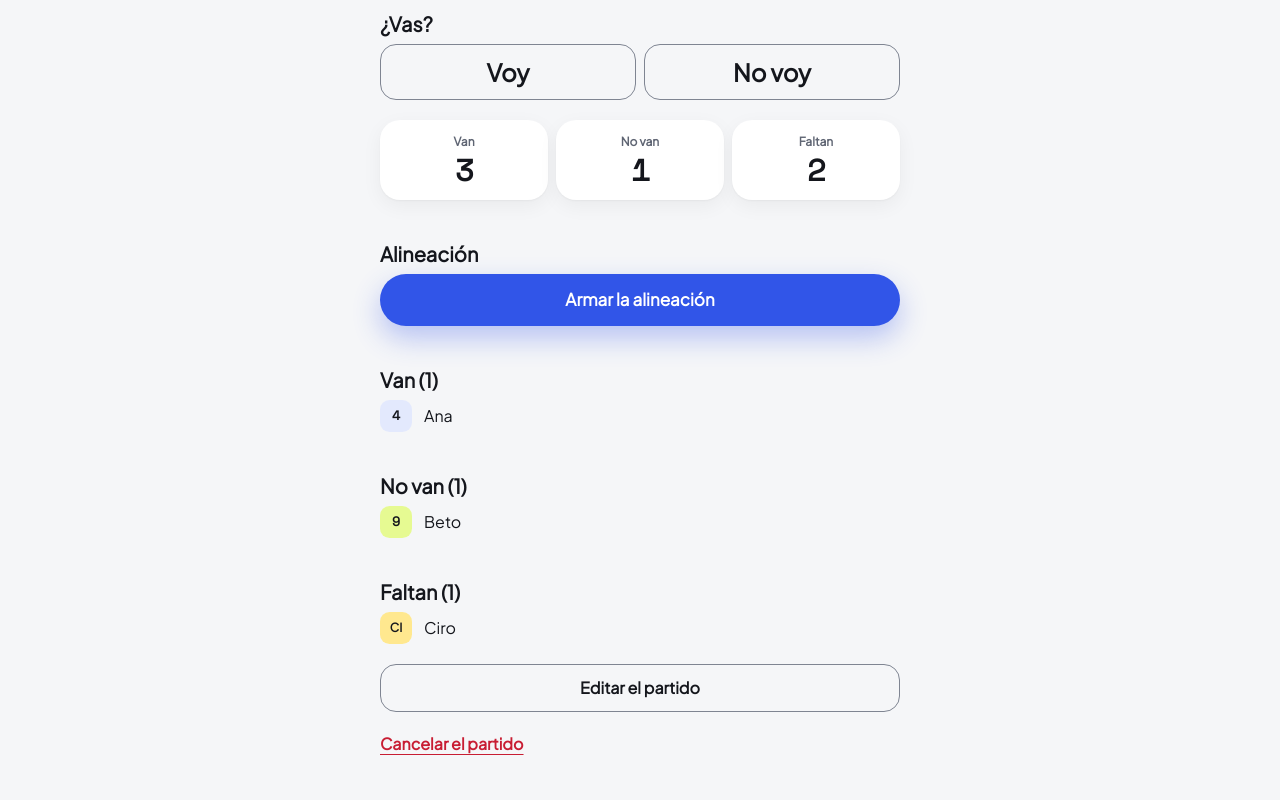
partidos en la app (Fase 7) › el cuerpo técnico ve quién va y puede cancelar
The width and height of the screenshot is (1280, 800).
(page scrolled)
Expected: the element "Van" shows "Ana", [424,405,453,426]
Expected: the element "Faltan" shows "Ciro", [424,617,456,638]
Click the button "Cancelar el partido".
click(452, 744)  # box [380,720,524,768]
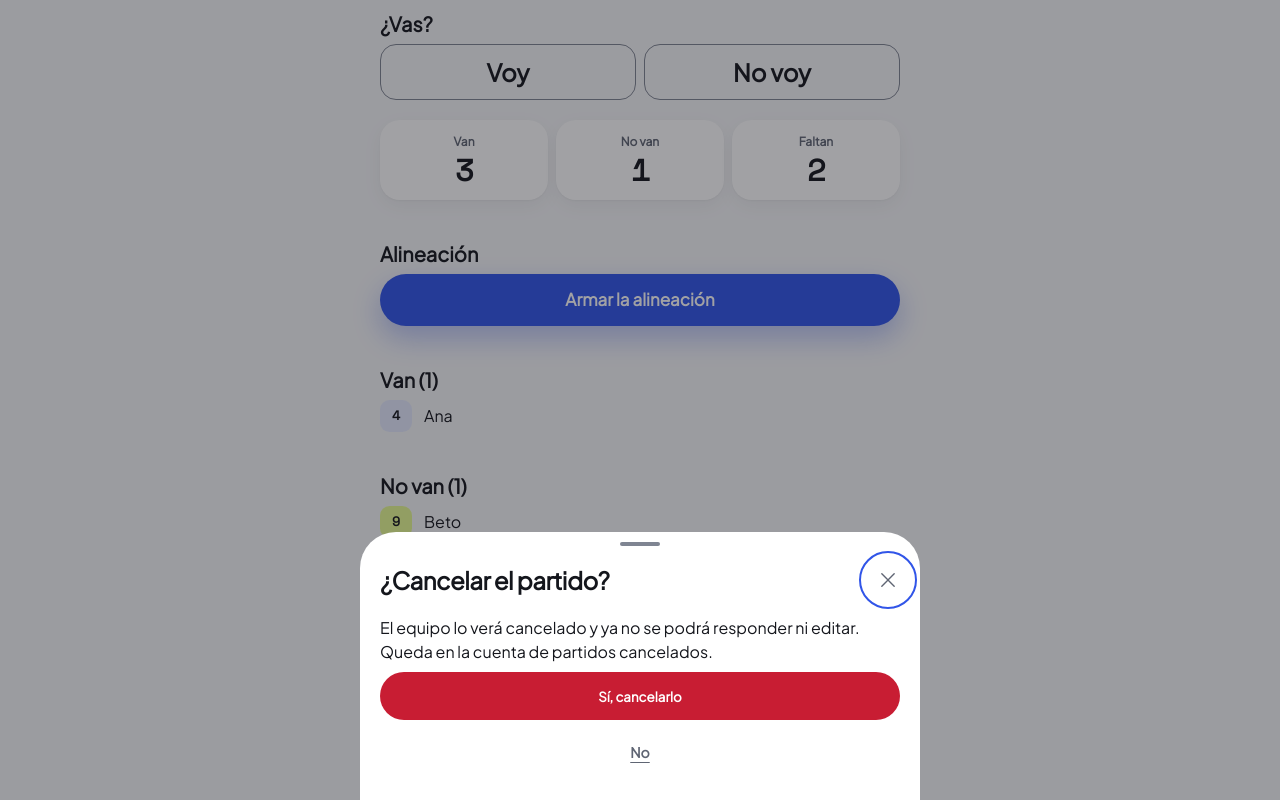
Click the button "Sí, cancelarlo".
click(640, 696)  # box [380,672,900,720]
(page scrolled)
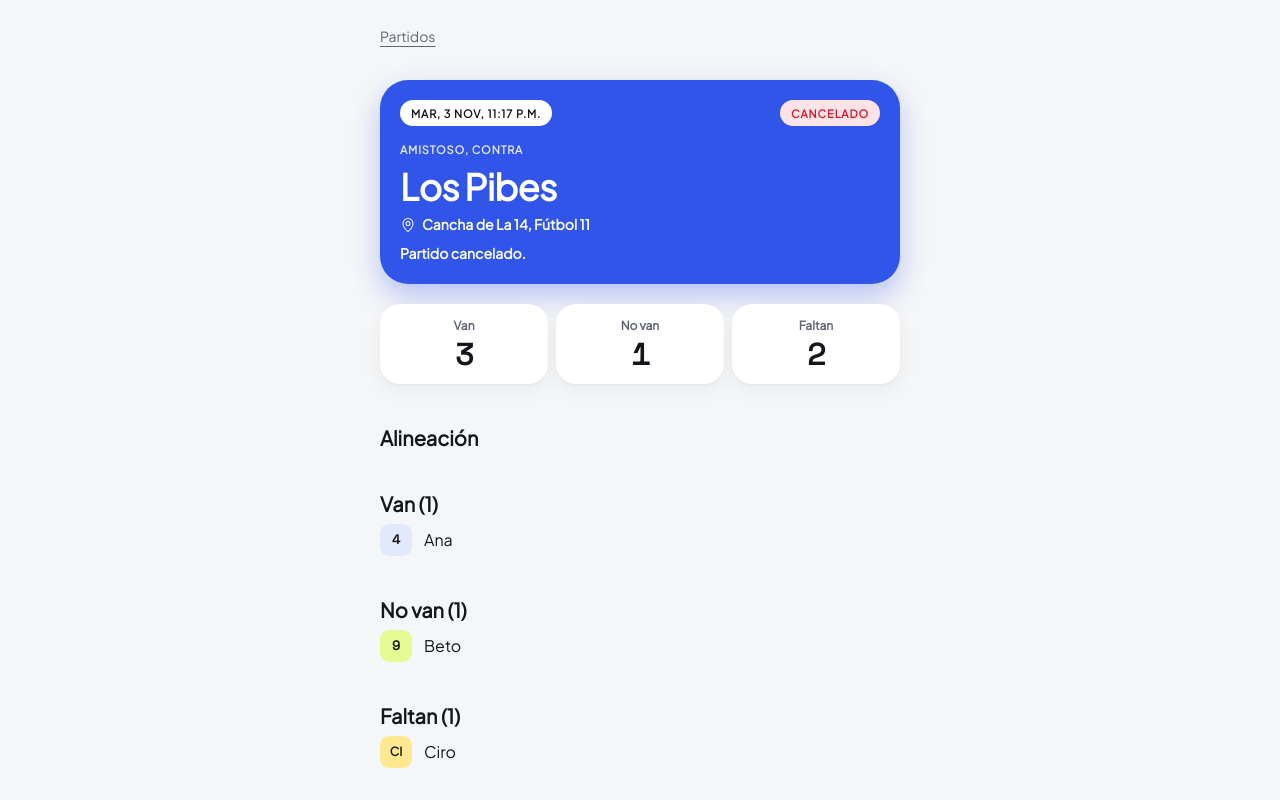
Expected: the text "Partido cancelado." is shown, [400,244,526,262]
